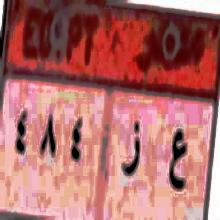4: (68, 105, 89, 174), (11, 106, 31, 164)
8: (38, 113, 61, 161)
ain: (165, 120, 193, 204)
zay: (121, 111, 145, 179)
